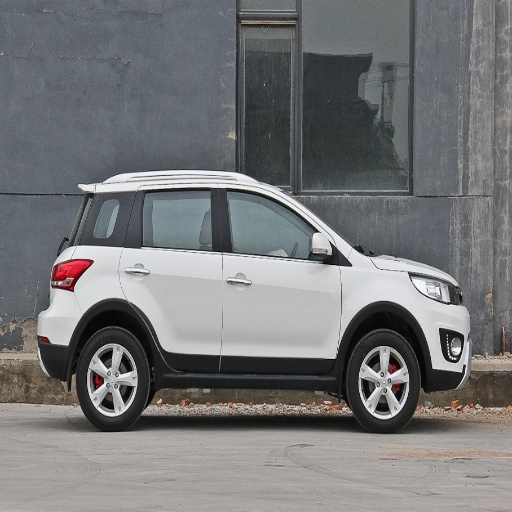back_right_door: (121, 182, 220, 372)
front_right_door: (221, 183, 341, 373)
